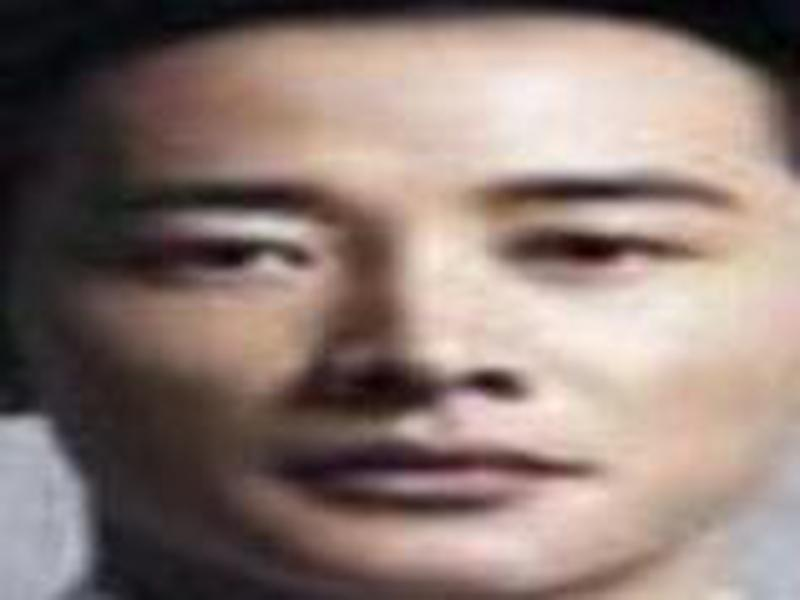without_mask: (23, 21, 797, 595)
